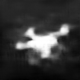plane: (15, 23, 77, 66)
